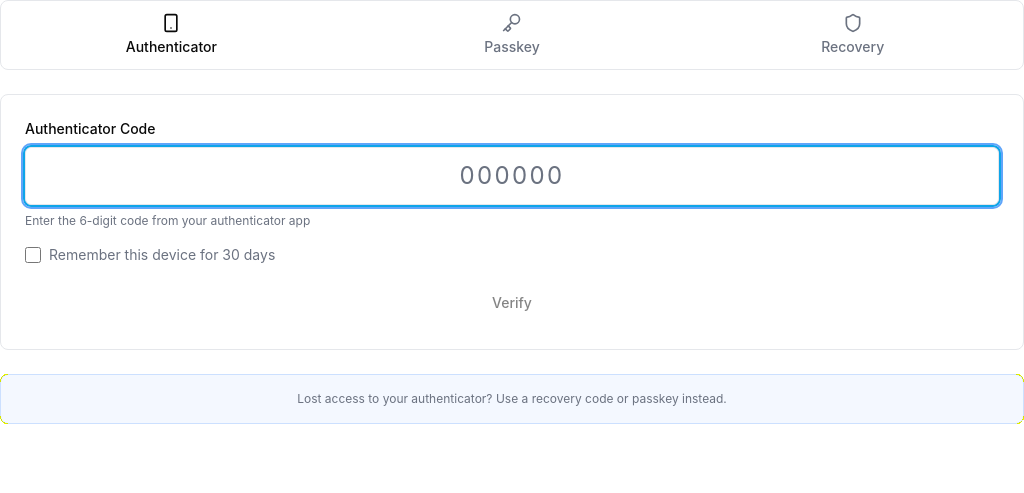
Test: TwoFactorVerification › Recovery Code Verification › should display error for invalid recovery code
Click the button "Recovery" at (853, 35), box 686,5 -> 1019,65
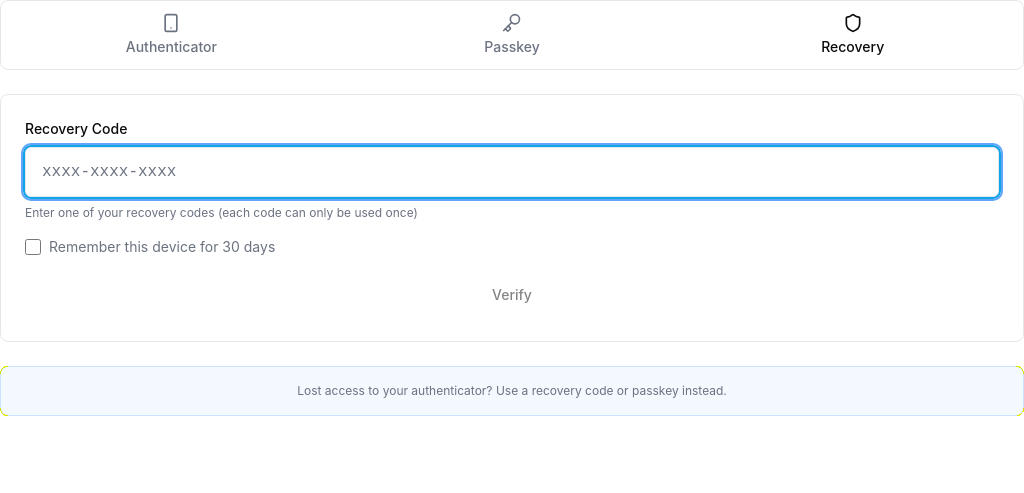
Type "invalid-code" into the field with placeholder "xxxx-xxxx-xxxx" at (512, 172), box 25,147 -> 999,197
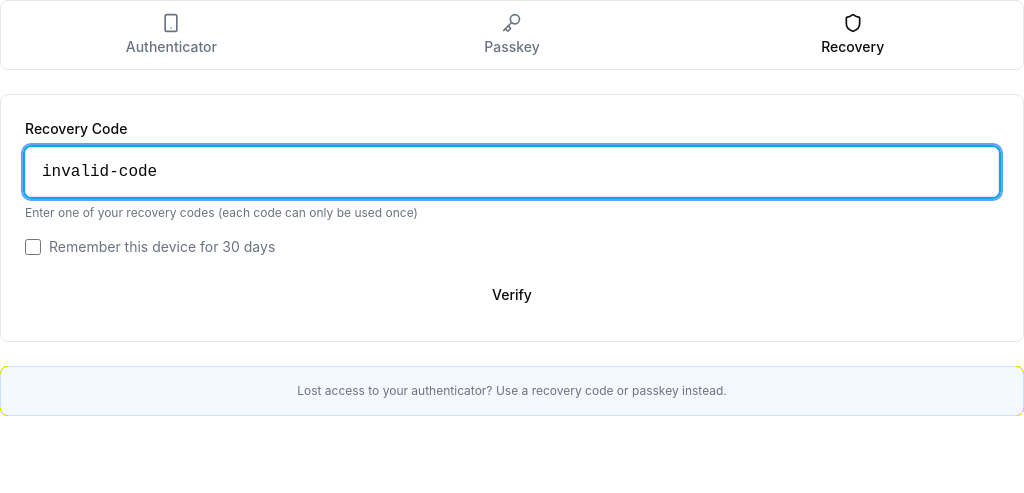
Click the button "Verify" at (512, 295), box 25,273 -> 999,317
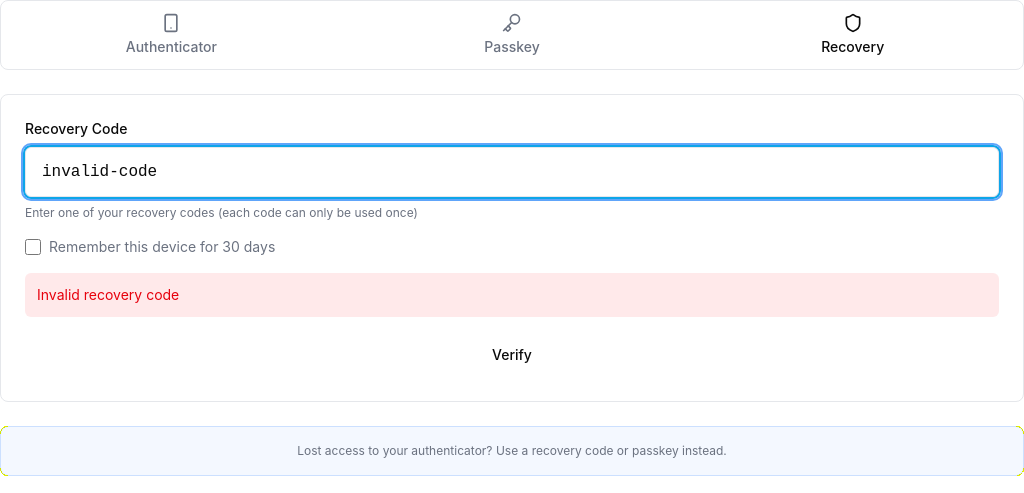
Check: the text "Invalid recovery code" is shown, box 25,273 -> 999,317
